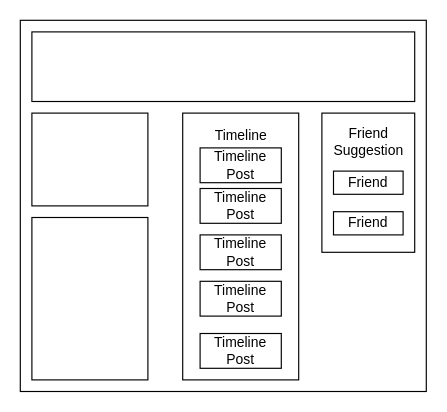
Some shapes in this 447 by 412 pixel diagram are drawn without their labels. The centre of each missing label's shape, as x and y in pixels:
"Description" belongs at point 89,298.
"Header" belongs at point 223,66.
"Profile" belongs at point 89,159.
